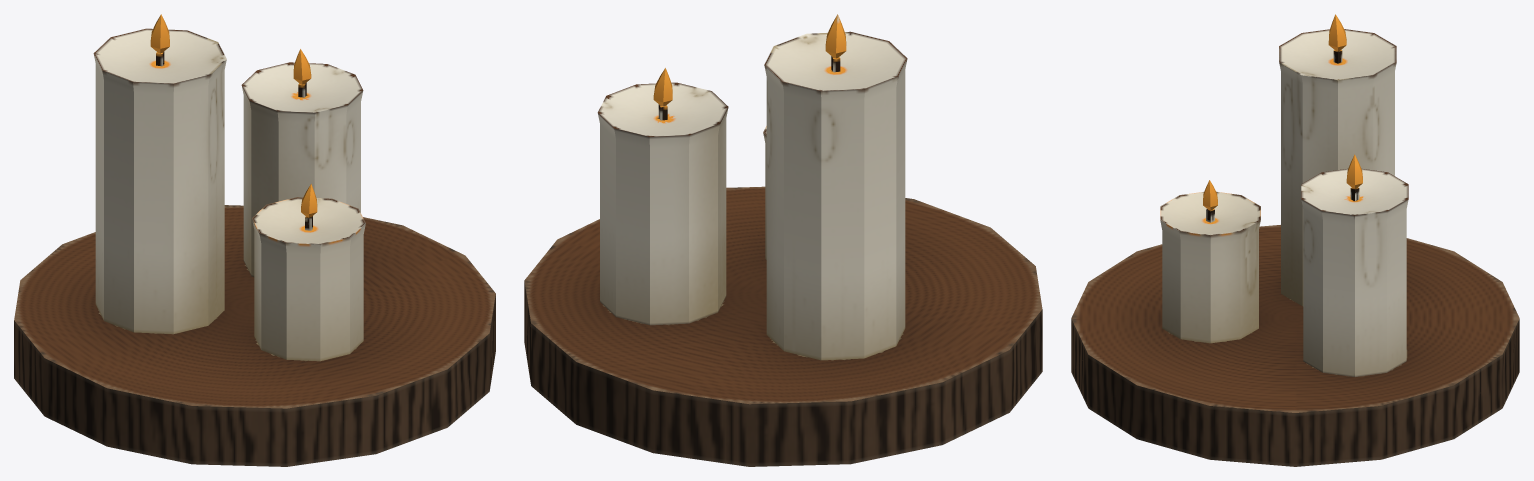
The model's file is Candles_Group_01.glb.
3 views of the same model, side by side, from view 1: azimuth 30°, elevation 25°; view 2: azimuth 150°, elevation 25°; view 3: azimuth 270°, elevation 25° (orthographic). The views are drawn at different scales.
Parts seen in each view (by area): view 1: Candles_Group_01; view 2: Candles_Group_01; view 3: Candles_Group_01.
Boxes of the visible parts, left/top/right/bottom form: Candles_Group_01: left=14, top=14, right=495, bottom=466; Candles_Group_01: left=524, top=14, right=1042, bottom=466; Candles_Group_01: left=1071, top=14, right=1519, bottom=466.
Bounding box in the file's own units: 0.264 × 0.2116 × 0.264.
Materials: 1 (1 with a texture image).
